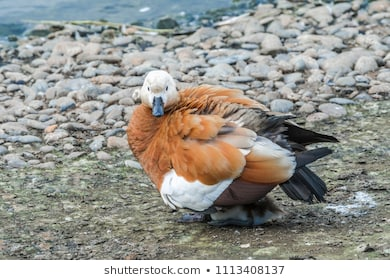duck: (117, 63, 346, 236)
